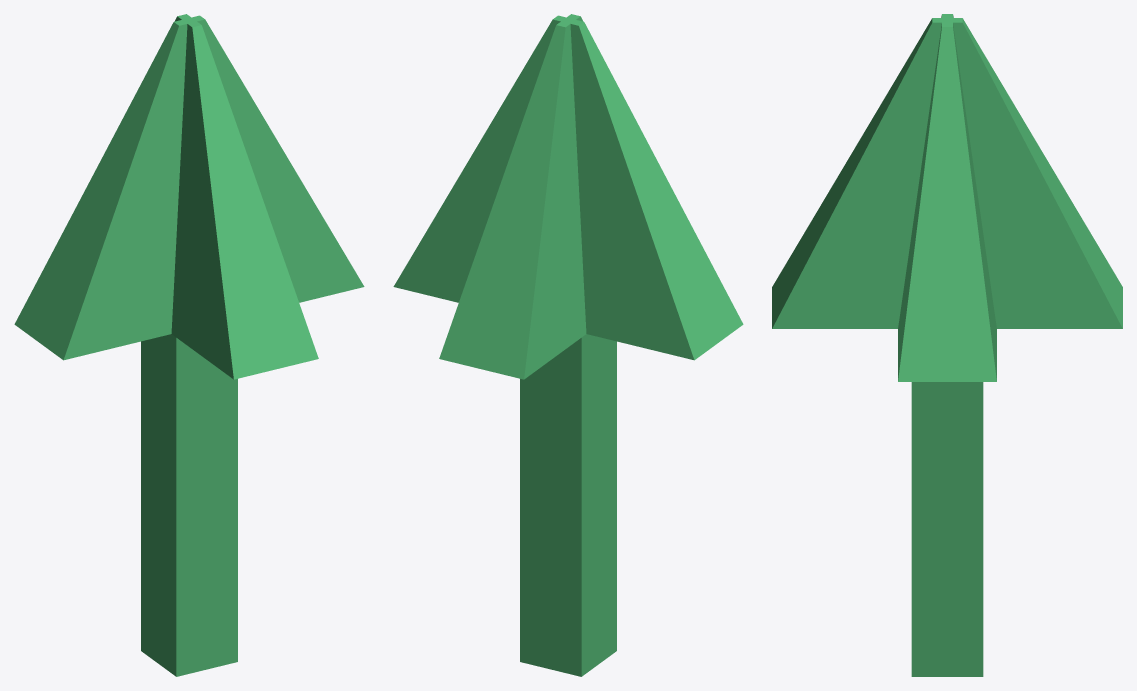
File: arrow2.glb
3 views of the same model, side by side, from view 1: azimuth 30°, elevation 25°; view 2: azimuth 150°, elevation 25°; view 3: azimuth 270°, elevation 25° (orthographic).
Parts seen in each view (by area): view 1: Box; view 2: Box; view 3: Box.
Part boxes in pixels (x1=…): Box: x1=14, y1=14, x2=364, y2=676; Box: x1=393, y1=14, x2=743, y2=676; Box: x1=772, y1=14, x2=1122, y2=676.
Size of the model in its own units: 1.66 by 3.34 by 1.66.
